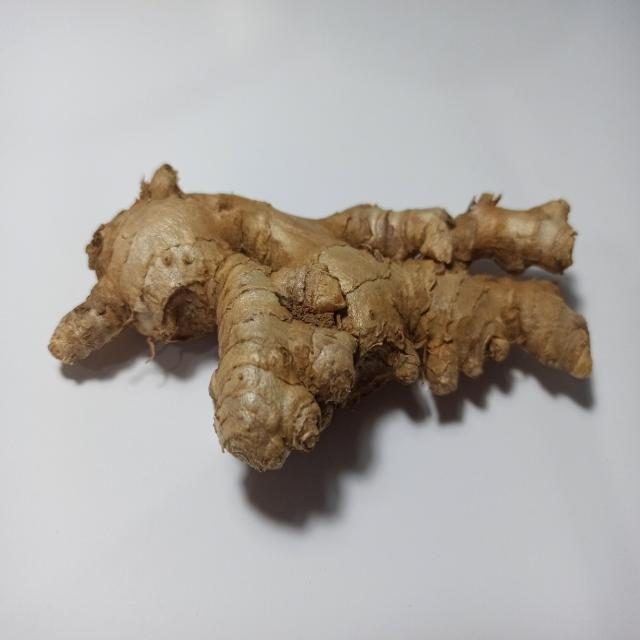ginger: (55, 163, 594, 477)
